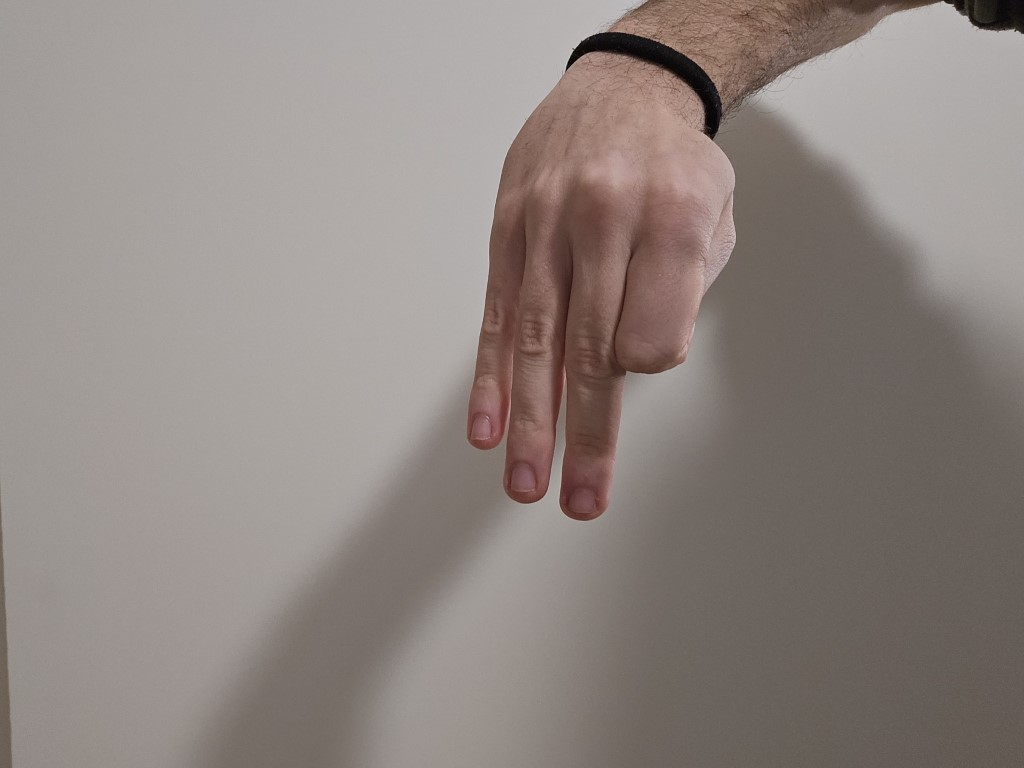m: (433, 83, 758, 538)
